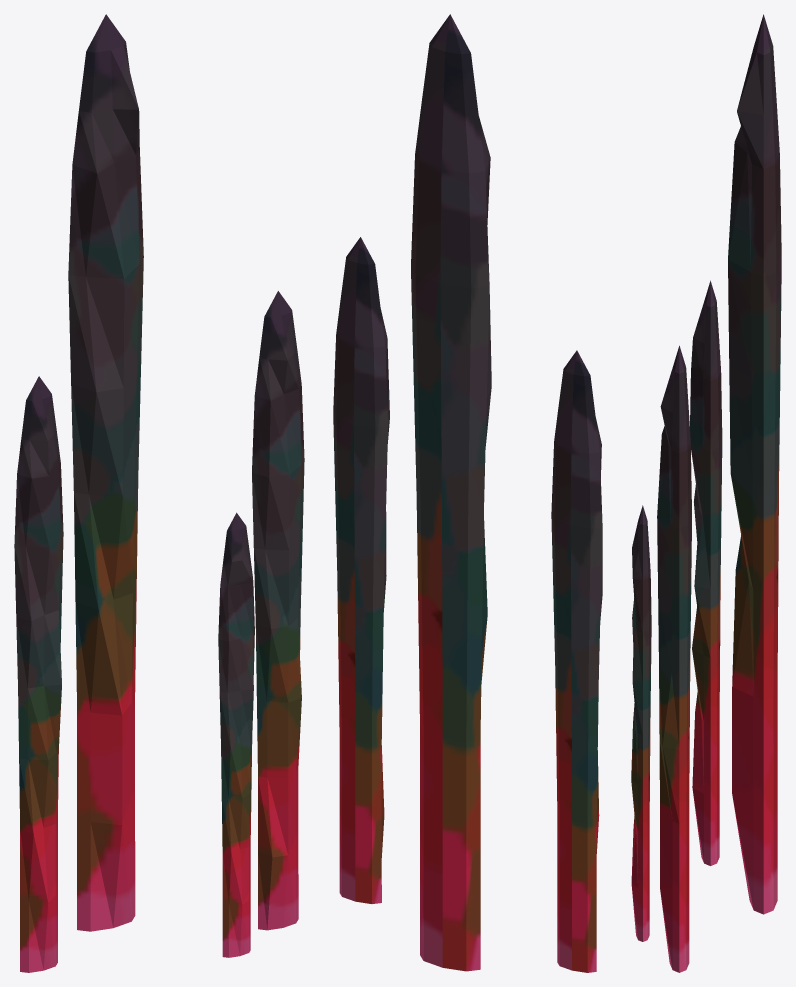
The model's file is alguesFines.fbx.
3 views of the same model, side by side, from view 1: azimuth 30°, elevation 25°; view 2: azimuth 150°, elevation 25°; view 3: azimuth 270°, elevation 25° (orthographic). The views are drawn at different scales.
Visible parts, largest first — view 1: polySurface_algueFine, polySurface_algueFine1, polySurface_algueFine2, polySurface_algueFine3; view 2: polySurface_algueFine, polySurface_algueFine1, polySurface_algueFine2; view 3: polySurface_algueFine, polySurface_algueFine1, polySurface_algueFine2, polySurface_algueFine3.
Boxes of the visible parts, x1,y1,x2,y2 form: polySurface_algueFine: (68, 14, 143, 931); polySurface_algueFine1: (252, 291, 304, 930); polySurface_algueFine2: (14, 376, 63, 972); polySurface_algueFine3: (218, 512, 254, 957); polySurface_algueFine: (411, 14, 491, 971); polySurface_algueFine1: (333, 237, 389, 903); polySurface_algueFine2: (551, 350, 602, 972); polySurface_algueFine: (728, 14, 781, 914); polySurface_algueFine1: (657, 345, 691, 972); polySurface_algueFine2: (690, 280, 722, 865); polySurface_algueFine3: (631, 505, 651, 941).
Bounding box in the file's own units: 1.72 × 5.46 × 0.8381.
